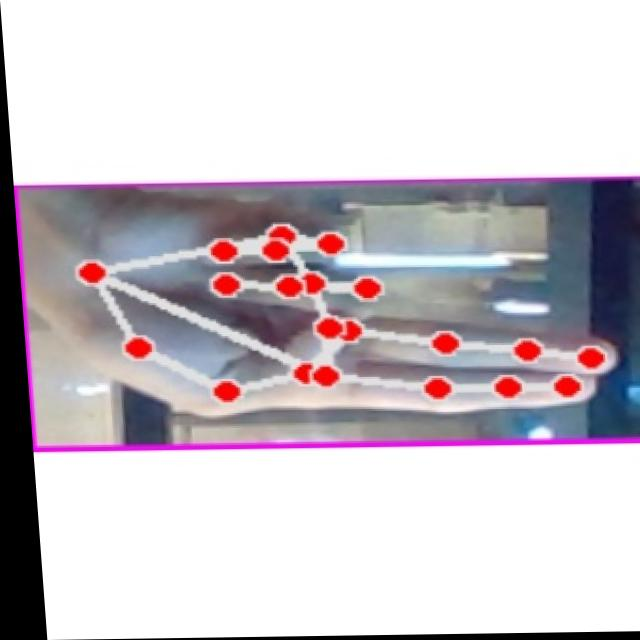H: (31, 195, 630, 436)
